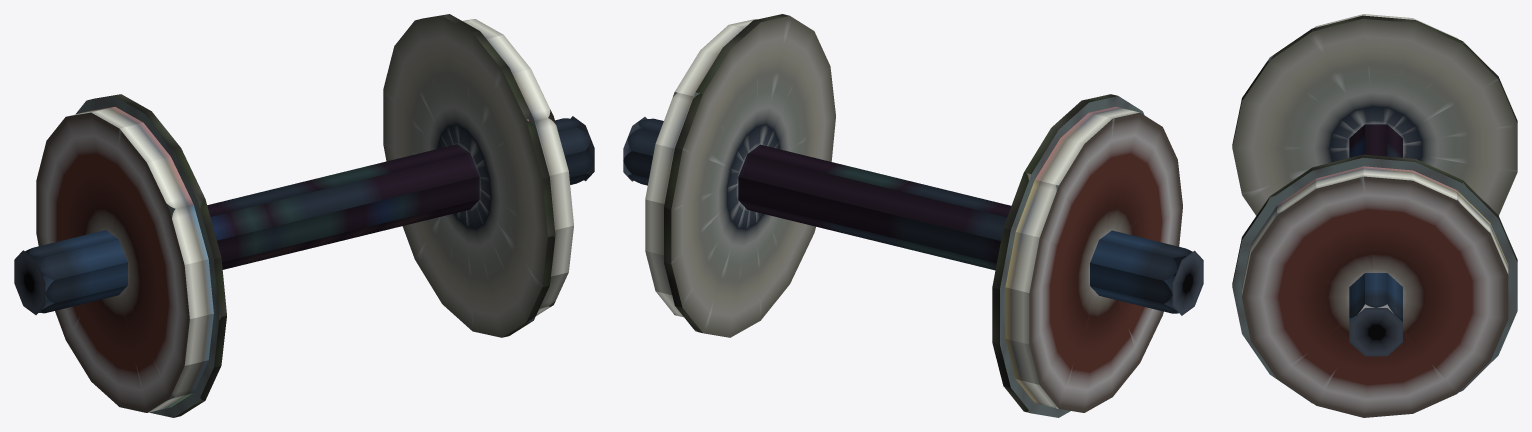
The model's file is ss8_wheel.obj.
The picture shows the model from 3 angles, left to right: view 1: azimuth 30°, elevation 25°; view 2: azimuth 150°, elevation 25°; view 3: azimuth 270°, elevation 25°; orthographic projection. The views are drawn at different scales.
Parts seen in each view (by area): view 1: cylinder_selection_selection_selection_selection_selection; view 2: cylinder_selection_selection_selection_selection_selection; view 3: cylinder_selection_selection_selection_selection_selection.
Boxes of the visible parts, x1,y1,x2,y2 form: cylinder_selection_selection_selection_selection_selection: [14, 14, 594, 417]; cylinder_selection_selection_selection_selection_selection: [623, 14, 1203, 417]; cylinder_selection_selection_selection_selection_selection: [1232, 14, 1517, 417].
Size of the model in its own units: 2.31 by 1.2 by 1.2.
